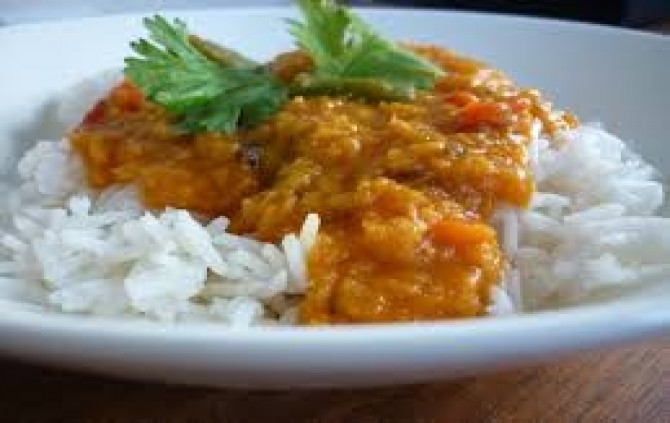plain rice: (62, 218, 211, 304), (553, 148, 626, 282)
